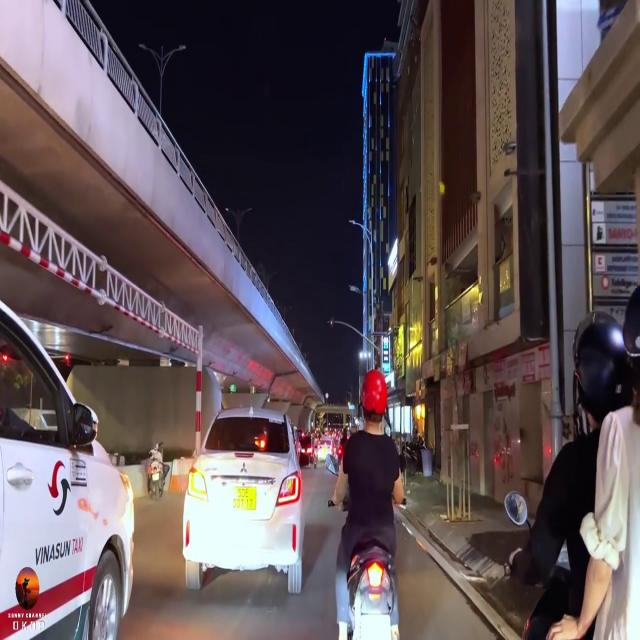bien_vang: (232, 488, 257, 509)
